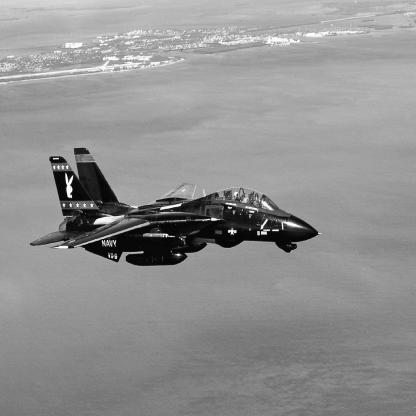F14: (30, 148, 324, 268)
